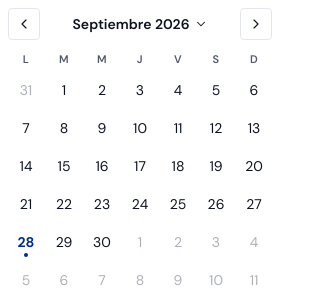
CalendarView header › picking a year descends to months, a month to days, and the view follows
This screenshot has width=320, height=303.
Click the button "Septiembre 2026" at {"x": 140, "y": 24}, box [64, 11, 216, 37]
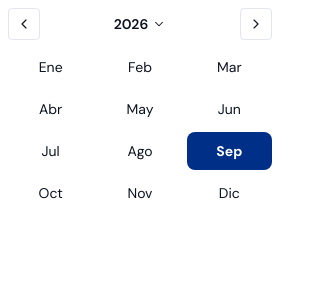
Click the button "2026" at {"x": 140, "y": 24}, box [106, 11, 174, 37]
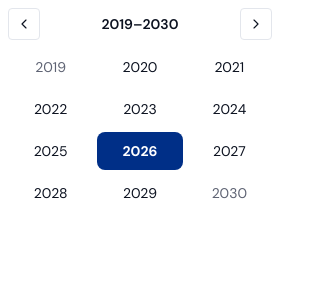
Click the button "2024" at {"x": 229, "y": 109}, box [187, 90, 272, 128]
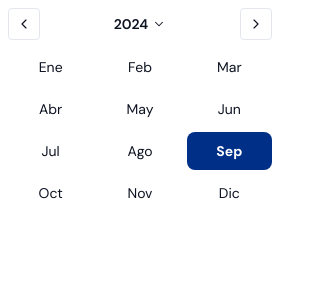
Result: the button "2024" is shown at [106, 11, 174, 37]
Click the button "Mar" at {"x": 229, "y": 67}, box [187, 48, 272, 86]
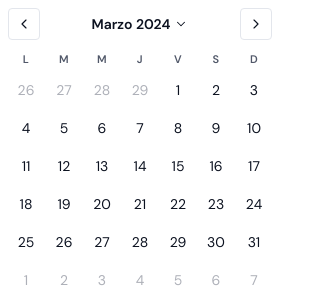
Result: the button "Marzo 2024" is shown at [84, 11, 196, 37]
